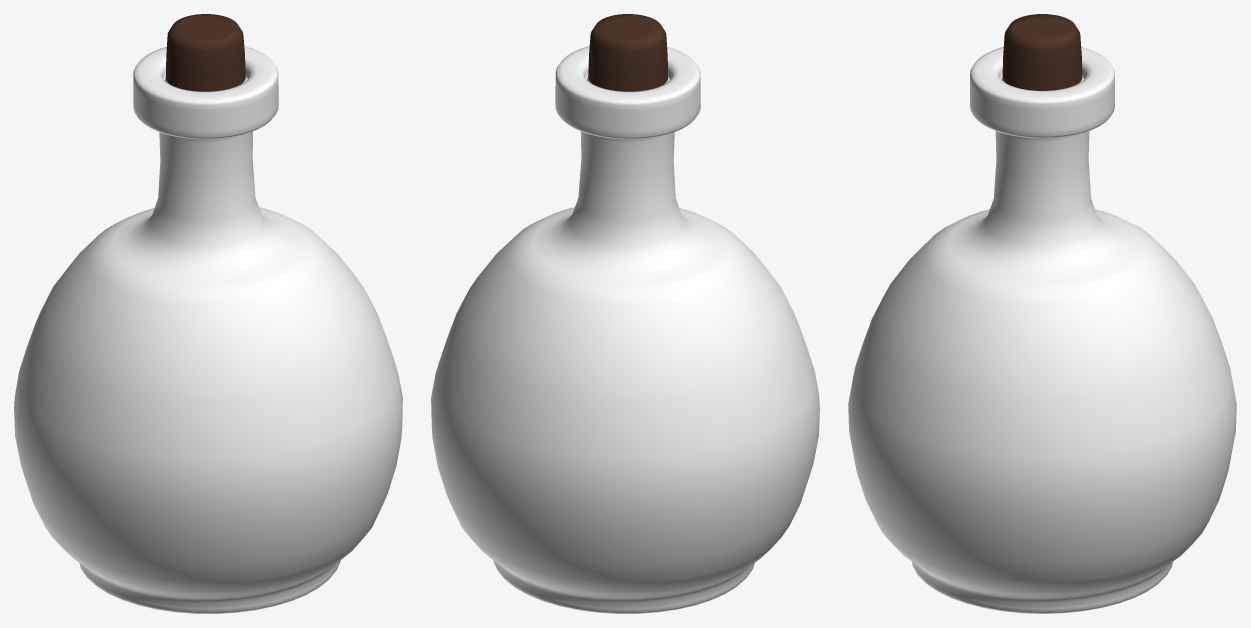
File: P_SpookyPotion-01.fbx
3 renders of one model, left to right at view 1: azimuth 30°, elevation 25°; view 2: azimuth 150°, elevation 25°; view 3: azimuth 270°, elevation 25°, orthographic.
Visible parts, largest first — view 1: PT_Poisonbottle_02; view 2: PT_Poisonbottle_02; view 3: PT_Poisonbottle_02.
Boxes of the visible parts, x1,y1,x2,y2 form: PT_Poisonbottle_02: (14,14,402,613); PT_Poisonbottle_02: (431,14,819,613); PT_Poisonbottle_02: (848,14,1236,613).
Size of the model in its own units: 1.33 by 2.02 by 1.33.
